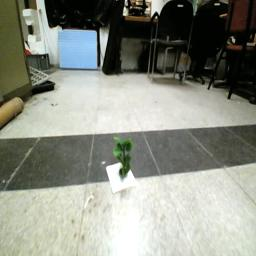herb: (114, 136, 135, 182)
